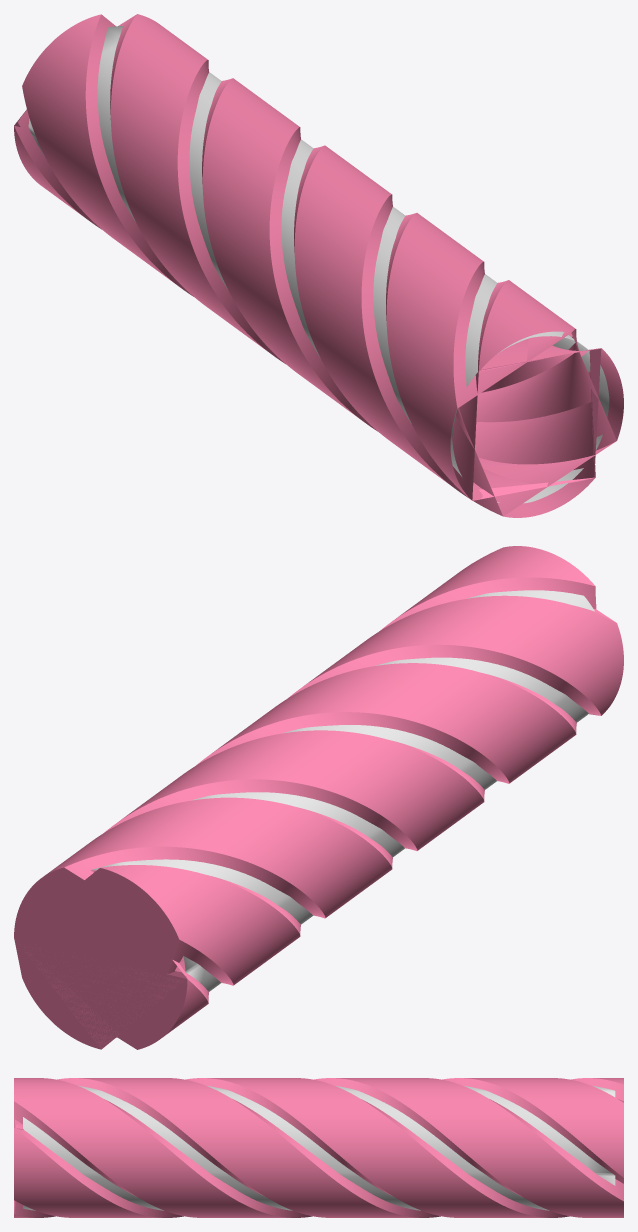
Rendered from candyColoumn2.fbx.
The picture shows the model from 3 angles, top to bottom: view 1: azimuth 30°, elevation 25°; view 2: azimuth 150°, elevation 25°; view 3: azimuth 270°, elevation 25°; orthographic projection. The views are drawn at different scales.
Parts seen in each view (by area): view 1: Куб; view 2: Куб; view 3: Куб.
Boxes of the visible parts, <box> form: Куб: <box>14,14,623,517</box>; Куб: <box>14,546,623,1049</box>; Куб: <box>14,1078,623,1217</box>.
Size of the model in its own units: 220 by 220 by 961.
